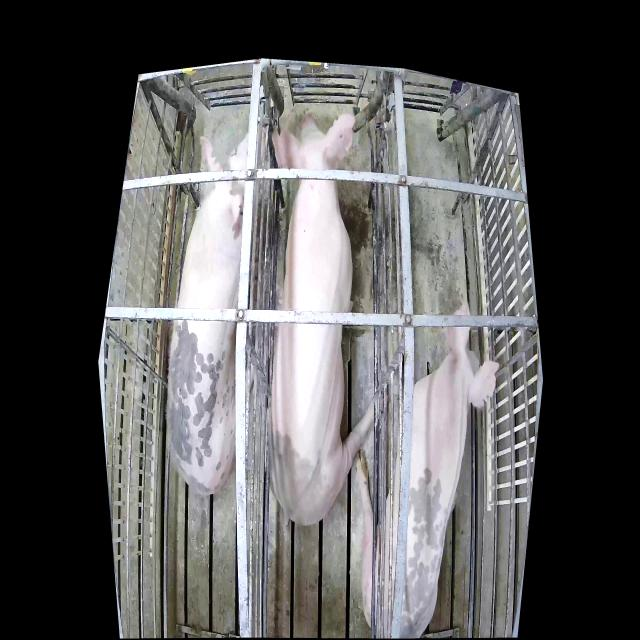pig: (357, 302, 501, 636), (269, 115, 374, 527), (166, 126, 266, 497)
